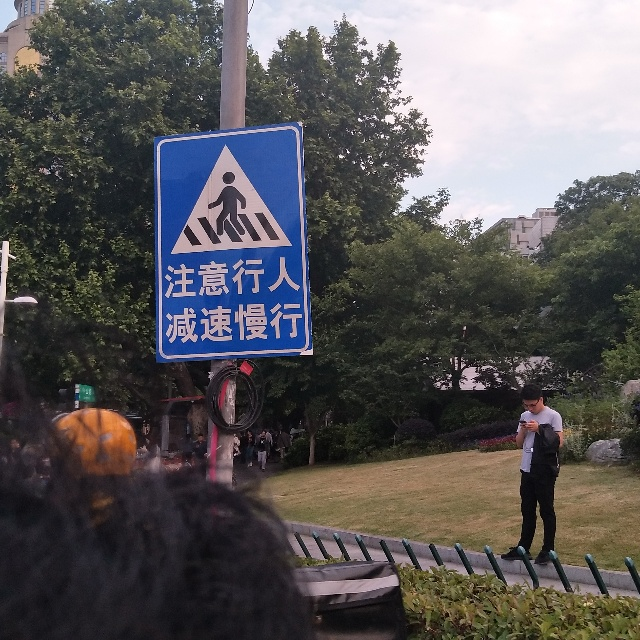crosswalk: (151, 128, 314, 363)
